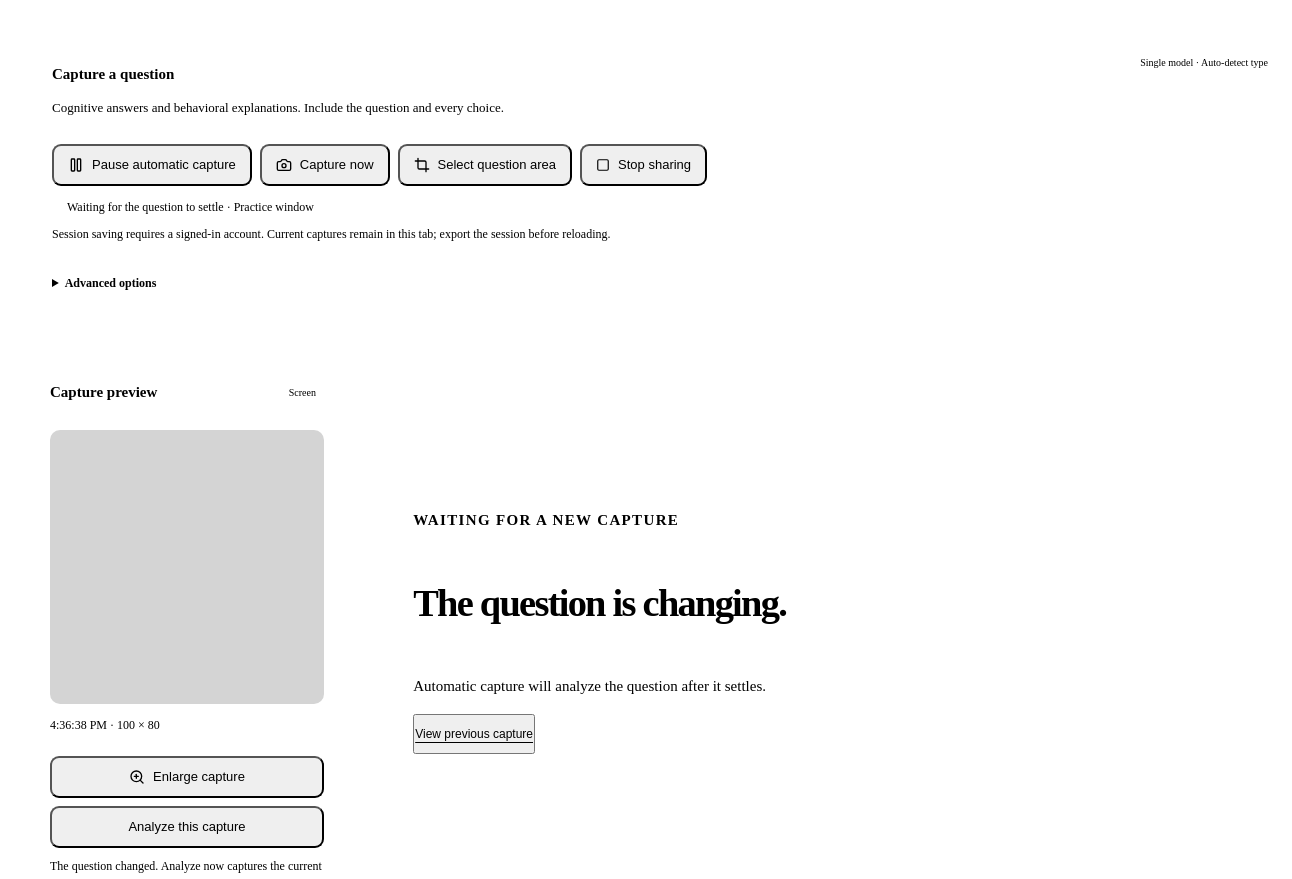
Test: aptitude workspace › withholds the previous choice while a changed screen settles, including when paused before capturing it
Earlier steps of the test are not shown.
Expected: the heading "B — 25%" is not shown
Expected: the heading "The question is changing." is shown, left=413, top=580, right=786, bottom=626
Click the button "Pause automatic capture" at [152, 165], box left=52, top=144, right=252, bottom=186
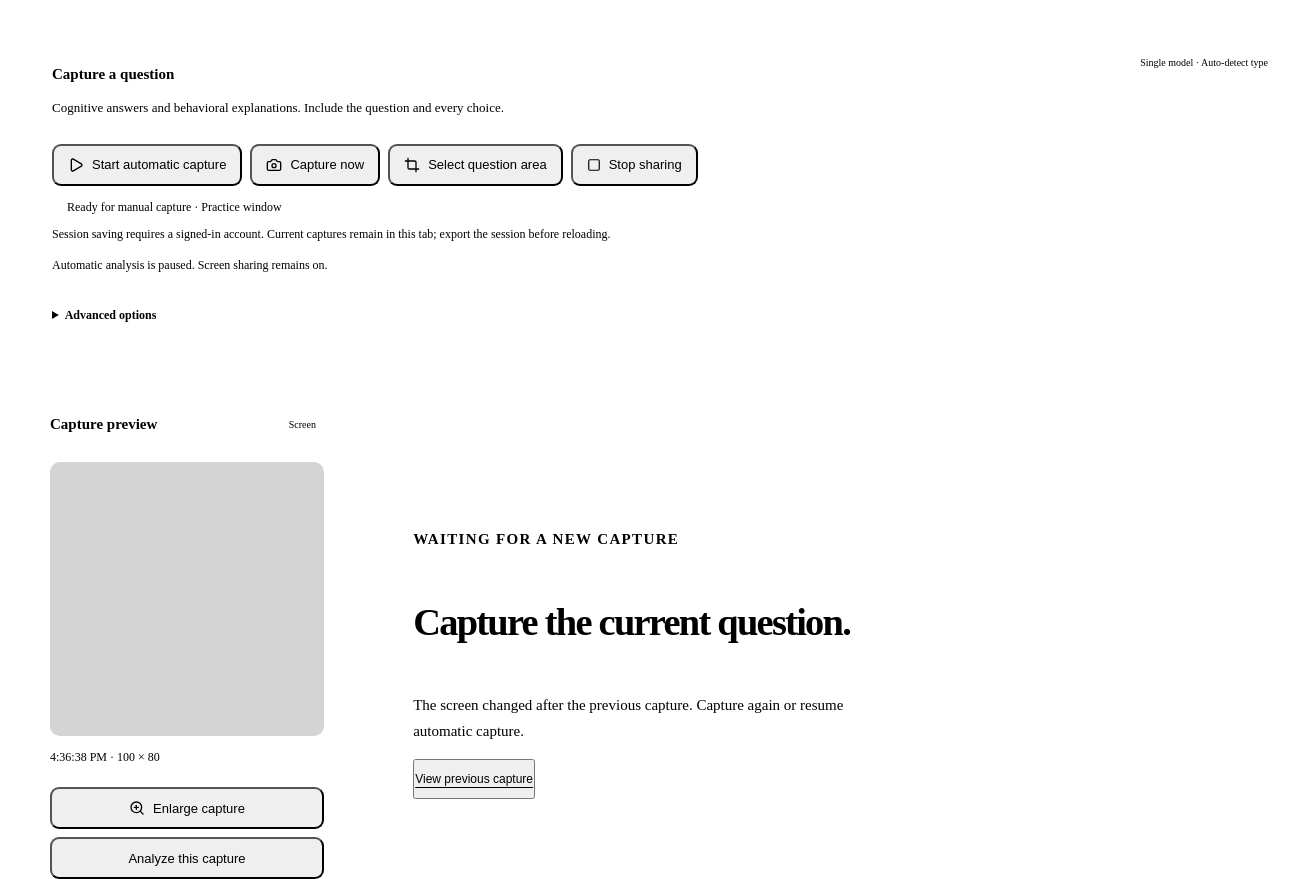
Expected: the heading "B — 25%" is not shown
Click the button "View previous capture" at [474, 779], box left=413, top=759, right=535, bottom=799
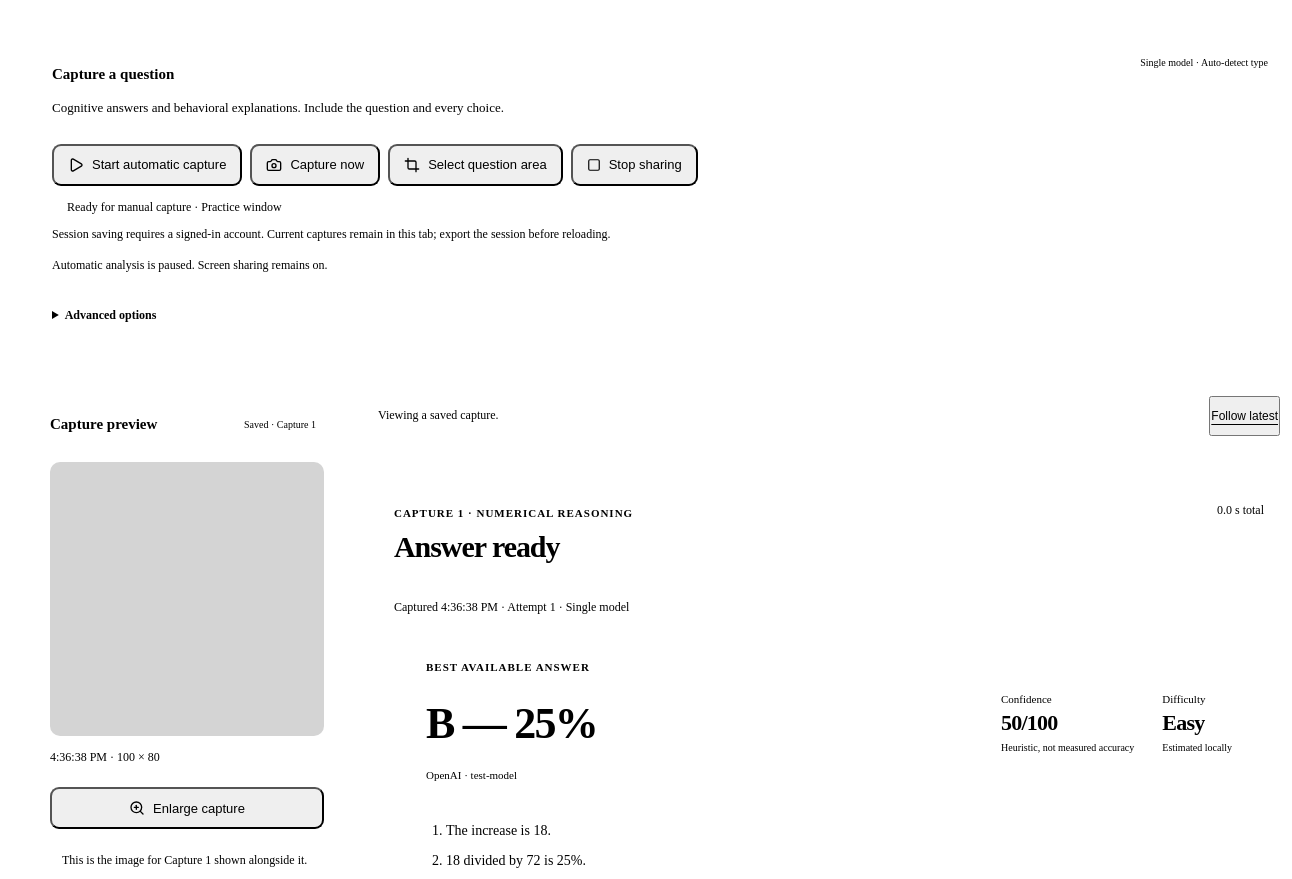
Result: the text "Viewing a saved capture." is shown at left=378, top=408, right=499, bottom=423
Result: the heading "B — 25%" is shown at left=426, top=699, right=597, bottom=748
